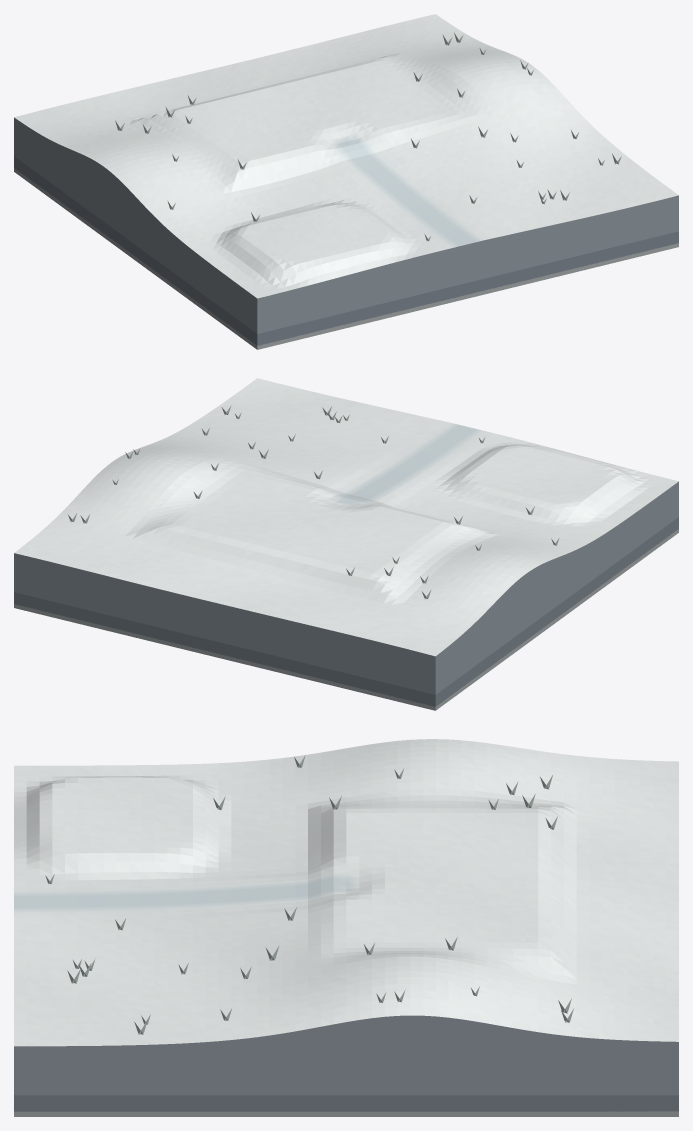
The picture shows the model from 3 angles, top to bottom: view 1: azimuth 30°, elevation 25°; view 2: azimuth 150°, elevation 25°; view 3: azimuth 270°, elevation 25°; orthographic projection. The views are drawn at different scales.
Parts seen in each view (by area): view 1: proc_ground, proc_skirt, proc_grass; view 2: proc_ground, proc_skirt, proc_grass; view 3: proc_ground, proc_skirt, proc_grass.
Part boxes in pixels (x1,y1,x2,y2): proc_ground: (14, 14, 678, 298); proc_skirt: (14, 117, 678, 349); proc_grass: (115, 32, 621, 240); proc_ground: (14, 378, 678, 656); proc_skirt: (14, 481, 678, 710); proc_grass: (68, 405, 559, 598); proc_ground: (14, 739, 678, 1046); proc_skirt: (14, 1015, 678, 1116); proc_grass: (45, 755, 573, 1034).
Bounding box in the file's own units: 8 × 1.56 × 8.
